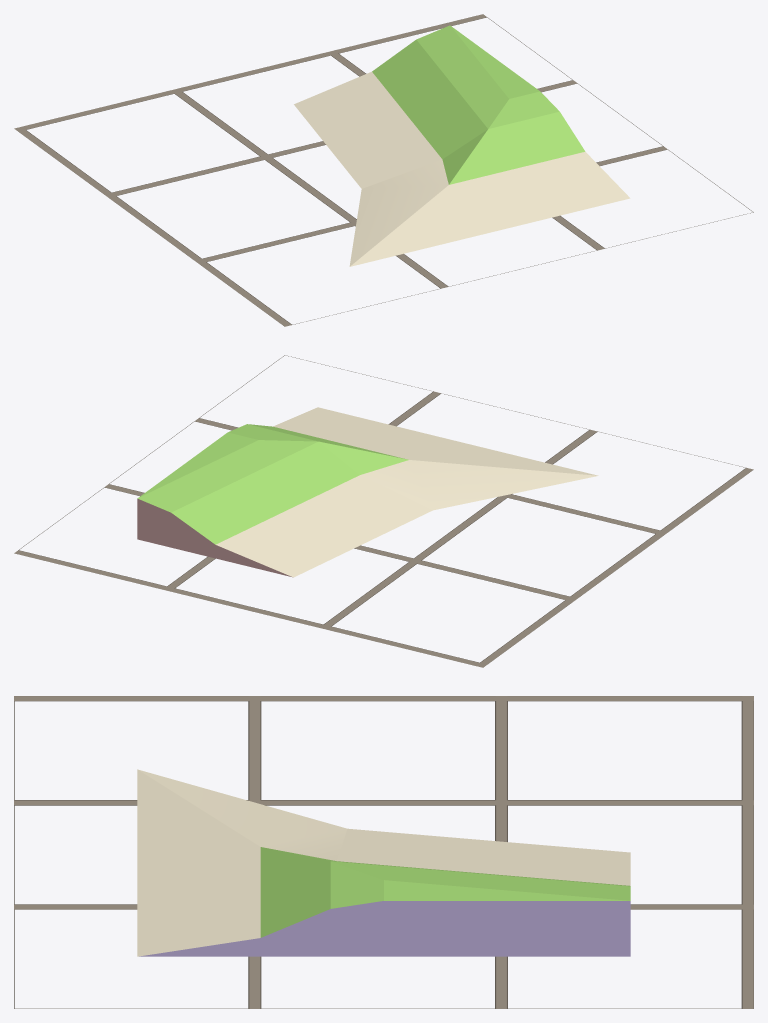
The model's file is Path_Terrain_Y_Curve_Inner_1x2.glb.
3 views of the same model, one above another, from view 1: azimuth 30°, elevation 25°; view 2: azimuth 150°, elevation 25°; view 3: azimuth 270°, elevation 25° (orthographic). The views are drawn at different scales.
Visible parts, largest first — view 1: Path_Terrain_Y_Curve_Inner_1x2, Floor; view 2: Path_Terrain_Y_Curve_Inner_1x2, Floor; view 3: Path_Terrain_Y_Curve_Inner_1x2, Floor.
Part boxes in pixels (<box>): Path_Terrain_Y_Curve_Inner_1x2: <box>294,25,630,266</box>; Floor: <box>14,14,753,326</box>; Path_Terrain_Y_Curve_Inner_1x2: <box>137,407,598,577</box>; Floor: <box>14,355,753,667</box>; Path_Terrain_Y_Curve_Inner_1x2: <box>137,769,630,956</box>; Floor: <box>14,696,753,1008</box>.
Bounding box in the file's own units: 300 × 25 × 300.
6 materials, 1 textured.
